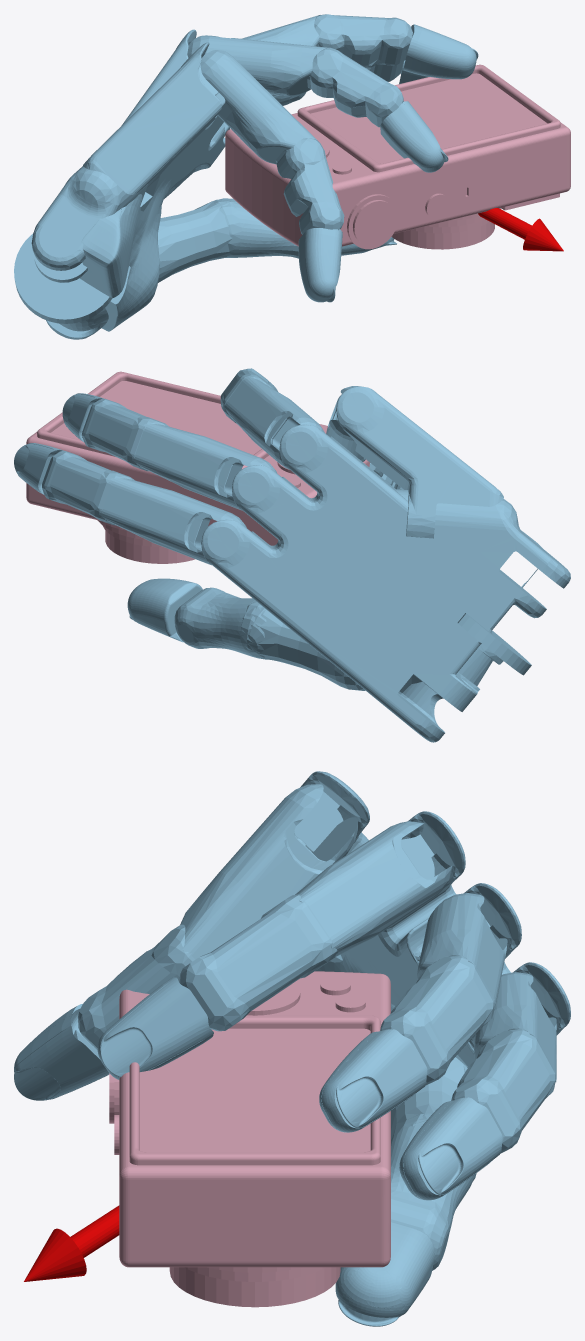
3 views of the same model, one above another, from view 1: azimuth 30°, elevation 25°; view 2: azimuth 150°, elevation 25°; view 3: azimuth 270°, elevation 25° (orthographic). The views are drawn at different scales.
Parts seen in each view (by area): view 1: world, camera.stl; view 2: world, camera.stl; view 3: world, camera.stl.
Boxes of the visible parts, x1,y1,x2,y2 form: world: (14, 14, 563, 339); camera.stl: (225, 64, 570, 249); world: (14, 368, 570, 742); camera.stl: (26, 371, 369, 563); world: (14, 771, 570, 1326); camera.stl: (109, 971, 390, 1307).
Bounding box in the file's own units: 0.2089 × 0.1195 × 0.1328.
